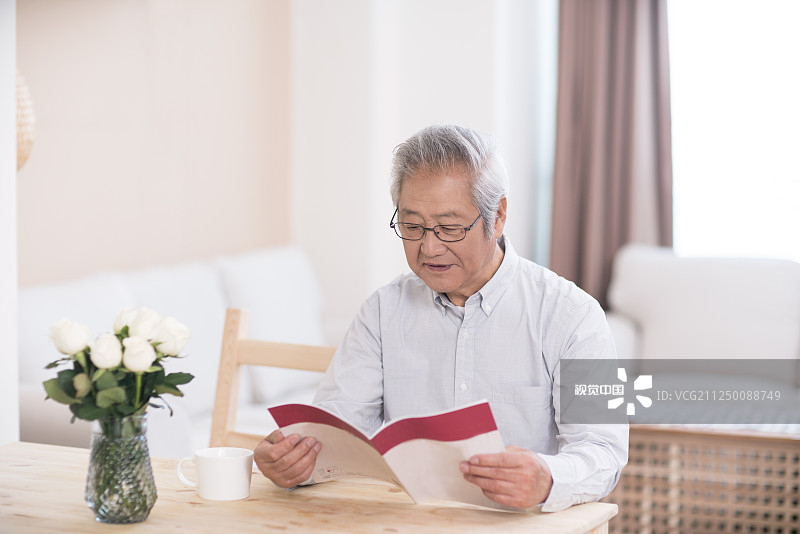no-phone: (444, 434, 559, 521), (244, 417, 333, 504)
